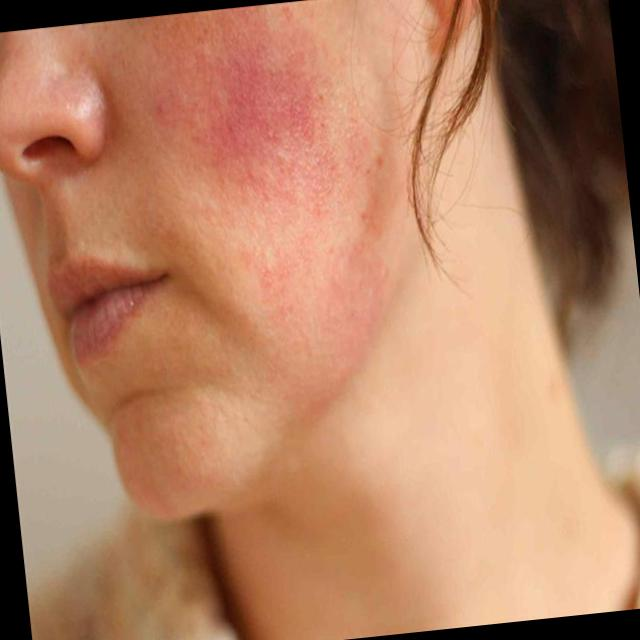redness: (143, 8, 344, 188), (269, 236, 390, 356)
